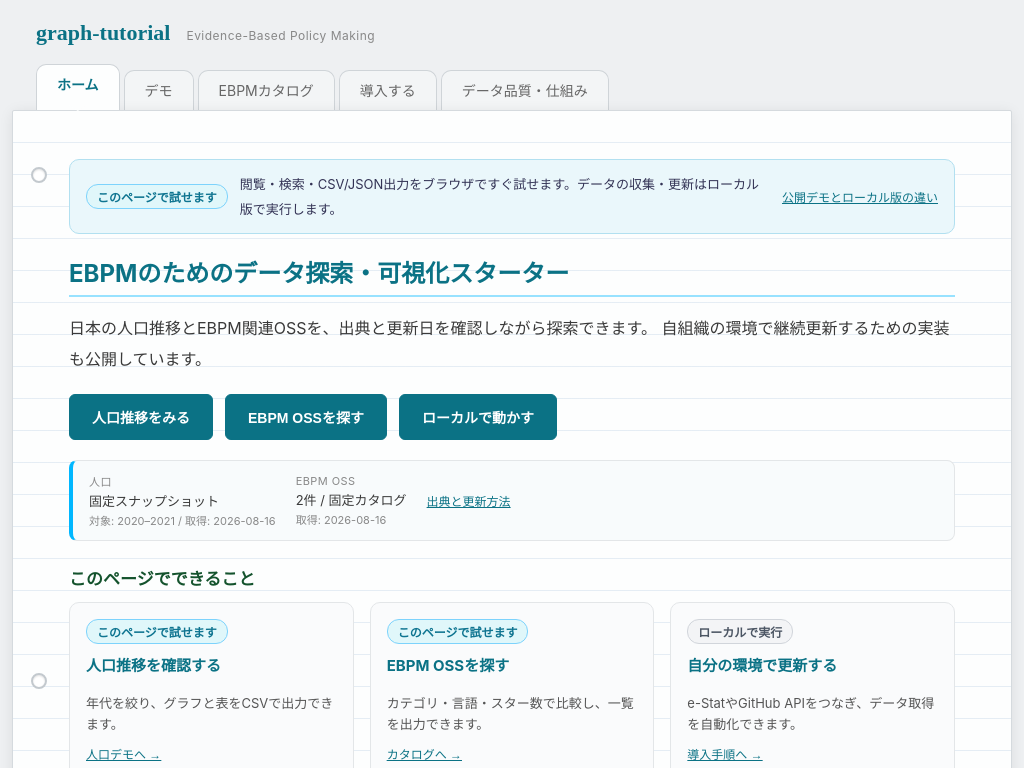
it: App › データ品質・仕組みタブに設計思想が表示される
Click the tab "データ品質・仕組み".
click(525, 93)  # box left=441, top=70, right=609, bottom=116
(page scrolled)
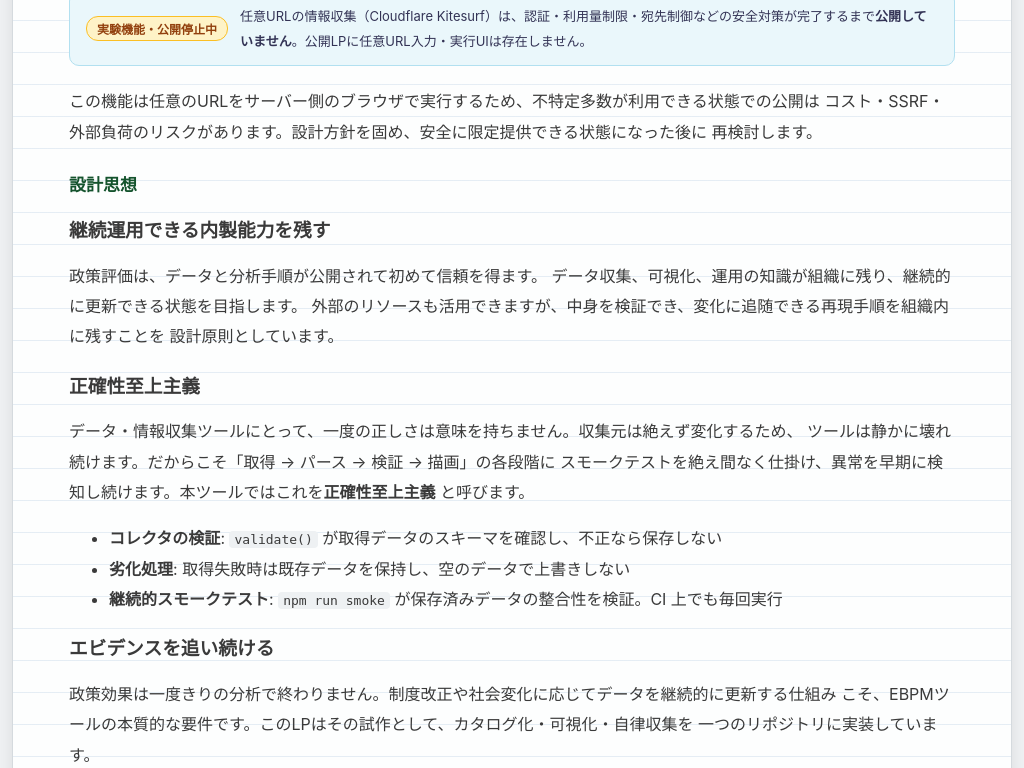
Expected: the heading "継続運用できる内製能力を残す" is shown, left=69, top=219, right=330, bottom=242
Expected: the heading "正確性至上主義" is shown, left=69, top=374, right=200, bottom=398
